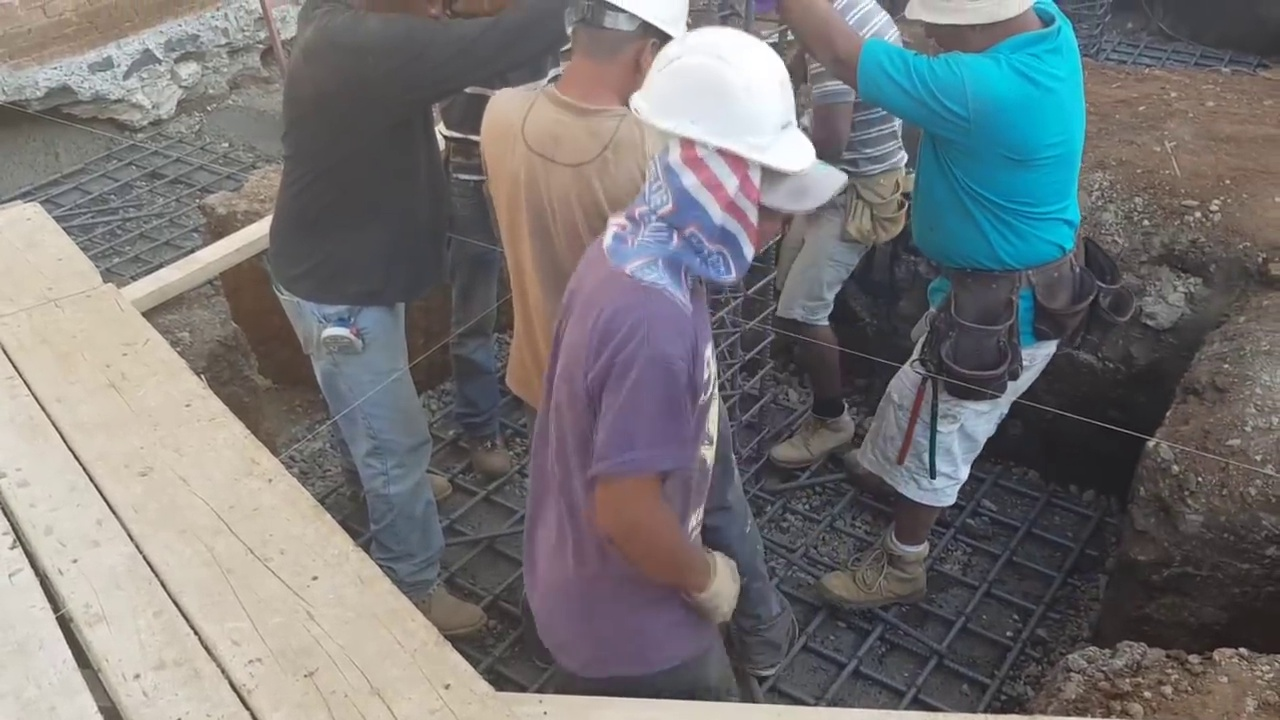helmet: (630, 36, 818, 175)
helmet-off: (909, 1, 1051, 69)
helmet-on: (615, 43, 816, 302), (537, 0, 691, 106)
person: (767, 0, 1097, 623), (262, 0, 524, 656), (520, 48, 775, 692), (480, 10, 692, 423), (742, 0, 914, 480)
